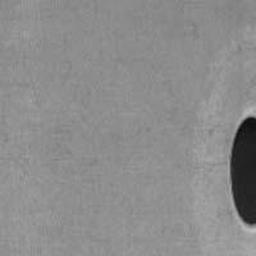Punching: (229, 115, 256, 227)
